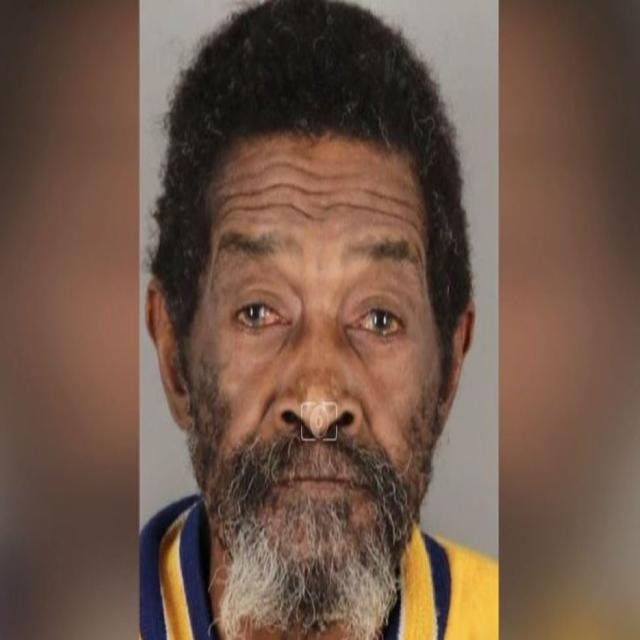human: (142, 11, 498, 640)
